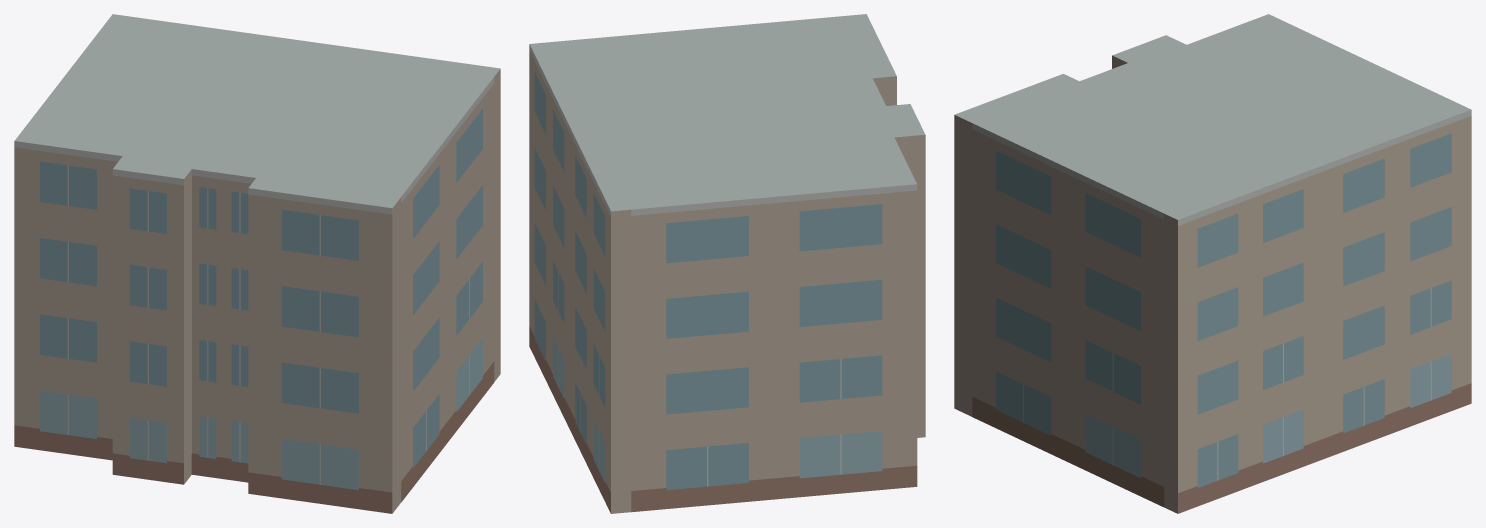
File: survey-upis-33002384.glb
The picture shows the model from 3 angles, left to right: view 1: azimuth 30°, elevation 25°; view 2: azimuth 150°, elevation 25°; view 3: azimuth 270°, elevation 25°; orthographic projection. The views are drawn at different scales.
Visible parts, largest first — view 1: survey-upis-33002384.tmp; view 2: survey-upis-33002384.tmp; view 3: survey-upis-33002384.tmp.
Boxes of the visible parts, bbox=[...] form: survey-upis-33002384.tmp: bbox=[14, 14, 500, 513]; survey-upis-33002384.tmp: bbox=[529, 14, 925, 513]; survey-upis-33002384.tmp: bbox=[954, 14, 1471, 513].
Bounding box in the file's own units: 17.6 × 11.7 × 18.67.
